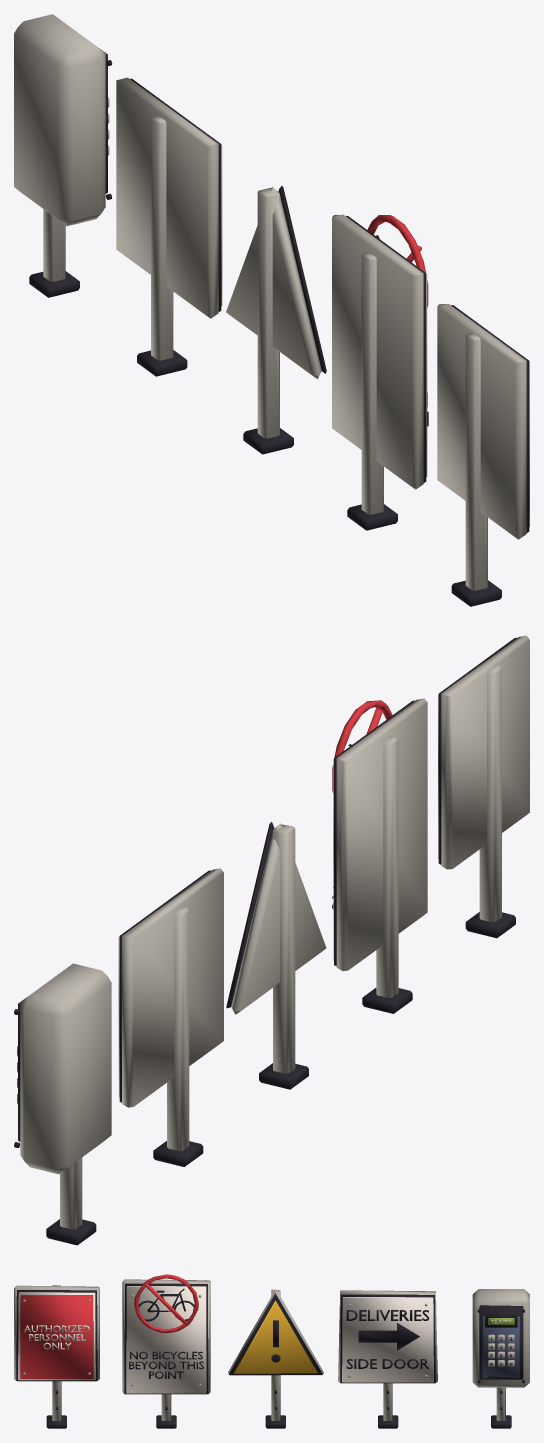
3 views of the same model, one above another, from view 1: azimuth 30°, elevation 25°; view 2: azimuth 150°, elevation 25°; view 3: azimuth 270°, elevation 25° (orthographic). The views are drawn at different scales.
Parts seen in each view (by area): view 1: sign_nobike, sign_deliveries, sign_authorized, keypad, sign_hazard; view 2: sign_nobike, sign_deliveries, sign_authorized, keypad, sign_hazard; view 3: sign_nobike, sign_deliveries, sign_authorized, keypad, sign_hazard.
Part boxes in pixels (x1,y1,x2,y2): sign_nobike: (332,214,428,530); sign_deliveries: (116,77,222,376); sign_authorized: (437,303,529,606); keypad: (14,14,112,297); sign_hazard: (226,186,326,454); sign_nobike: (332,698,427,1013); sign_deliveries: (118,868,223,1166); sign_authorized: (438,635,529,938); keypad: (14,963,111,1245); sign_hazard: (226,822,326,1089); sign_nobike: (122,1274,210,1428); sign_deliveries: (338,1290,437,1428); sign_authorized: (14,1285,99,1428); keypad: (472,1289,529,1428); sign_hazard: (228,1289,323,1428).
Bounding box in the file's own units: 0.2961 × 1.36 × 4.05.
